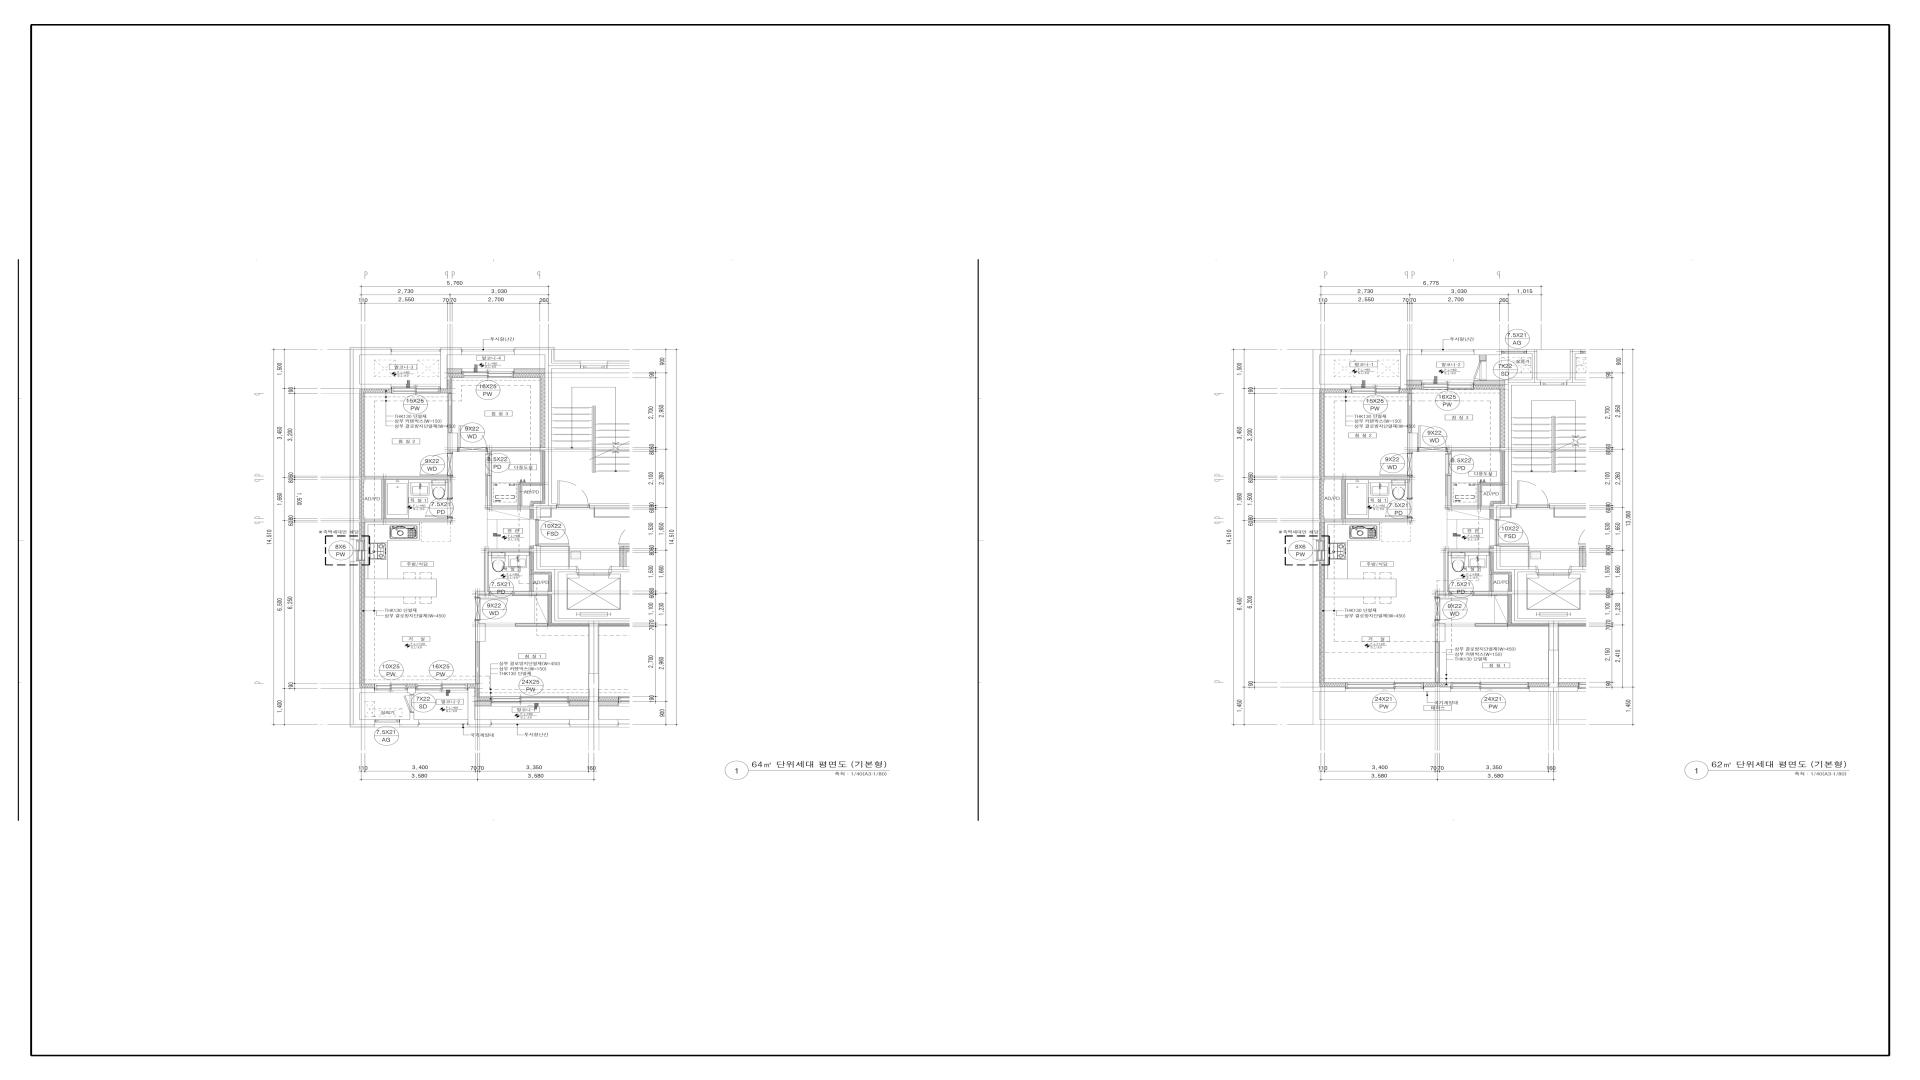door: (1516, 480, 1549, 509), (556, 480, 589, 509), (1494, 520, 1530, 546), (534, 520, 570, 546), (418, 451, 452, 476), (1378, 451, 1412, 476), (458, 425, 488, 452), (1418, 425, 1448, 452), (1435, 597, 1469, 621), (475, 597, 509, 621), (425, 497, 452, 518), (1385, 497, 1412, 518), (1474, 355, 1486, 380), (404, 694, 414, 712), (485, 454, 491, 476), (1445, 454, 1451, 476), (1540, 382, 1567, 385)
wall: (534, 546, 630, 624), (1494, 546, 1589, 624), (349, 347, 392, 520), (514, 347, 582, 447), (1313, 349, 1350, 520), (570, 624, 618, 728), (1313, 560, 1345, 692), (1528, 624, 1578, 692), (349, 560, 375, 694), (1320, 560, 1345, 687), (1435, 549, 1494, 597), (475, 549, 534, 597), (1319, 389, 1350, 476), (360, 389, 392, 476), (514, 373, 545, 447), (1319, 476, 1412, 498), (360, 476, 452, 498), (1474, 380, 1505, 447), (360, 560, 375, 688), (1445, 476, 1494, 509), (485, 476, 534, 509), (1507, 595, 1548, 626), (547, 595, 588, 626), (1505, 349, 1540, 385), (545, 368, 551, 504), (440, 347, 462, 389), (468, 688, 491, 728), (1490, 551, 1511, 592), (530, 551, 551, 592), (349, 694, 375, 728), (1400, 349, 1422, 389), (1505, 380, 1511, 504), (1490, 451, 1505, 506), (530, 451, 545, 506), (1567, 349, 1586, 385), (1407, 393, 1418, 451), (447, 393, 458, 451), (468, 683, 492, 707), (1478, 484, 1502, 506), (520, 484, 542, 506), (488, 447, 553, 454), (1448, 447, 1511, 454), (440, 373, 462, 393), (349, 518, 452, 522), (1313, 518, 1412, 522), (1494, 504, 1516, 520), (534, 504, 556, 520), (400, 712, 419, 728), (1400, 380, 1422, 393), (1435, 621, 1445, 642), (475, 621, 485, 642), (475, 642, 480, 684), (620, 546, 630, 567), (1319, 479, 1324, 520), (1435, 642, 1440, 683), (1549, 504, 1589, 509), (568, 696, 588, 707), (599, 696, 618, 707), (589, 504, 629, 509), (349, 522, 360, 541), (1341, 479, 1345, 520), (360, 479, 364, 520), (381, 479, 385, 520), (1474, 349, 1502, 355), (1580, 546, 1586, 567), (1424, 682, 1451, 687), (1424, 687, 1451, 692), (607, 363, 630, 368), (514, 369, 545, 373), (1528, 682, 1548, 687), (1559, 682, 1578, 687), (1474, 592, 1511, 595), (1319, 522, 1324, 541), (1571, 567, 1589, 572), (514, 592, 551, 595), (612, 567, 630, 572), (1313, 522, 1319, 541), (1474, 624, 1507, 626), (599, 624, 630, 626), (516, 624, 547, 626), (1559, 624, 1589, 626), (447, 369, 462, 375), (360, 522, 364, 541), (530, 575, 534, 592), (407, 688, 417, 694), (1490, 575, 1493, 592), (1490, 509, 1494, 520), (530, 509, 534, 520), (407, 684, 417, 688)
window: (492, 696, 568, 707), (1345, 682, 1424, 690), (462, 369, 514, 378), (1422, 380, 1474, 389), (1350, 386, 1400, 393), (392, 386, 440, 393), (417, 684, 468, 690), (375, 684, 407, 691), (491, 723, 570, 725), (1316, 541, 1325, 560), (1422, 349, 1474, 352), (462, 349, 514, 352), (1350, 349, 1400, 352), (1502, 349, 1527, 355), (419, 723, 468, 725), (392, 349, 440, 352), (375, 720, 400, 723), (582, 365, 607, 368)
